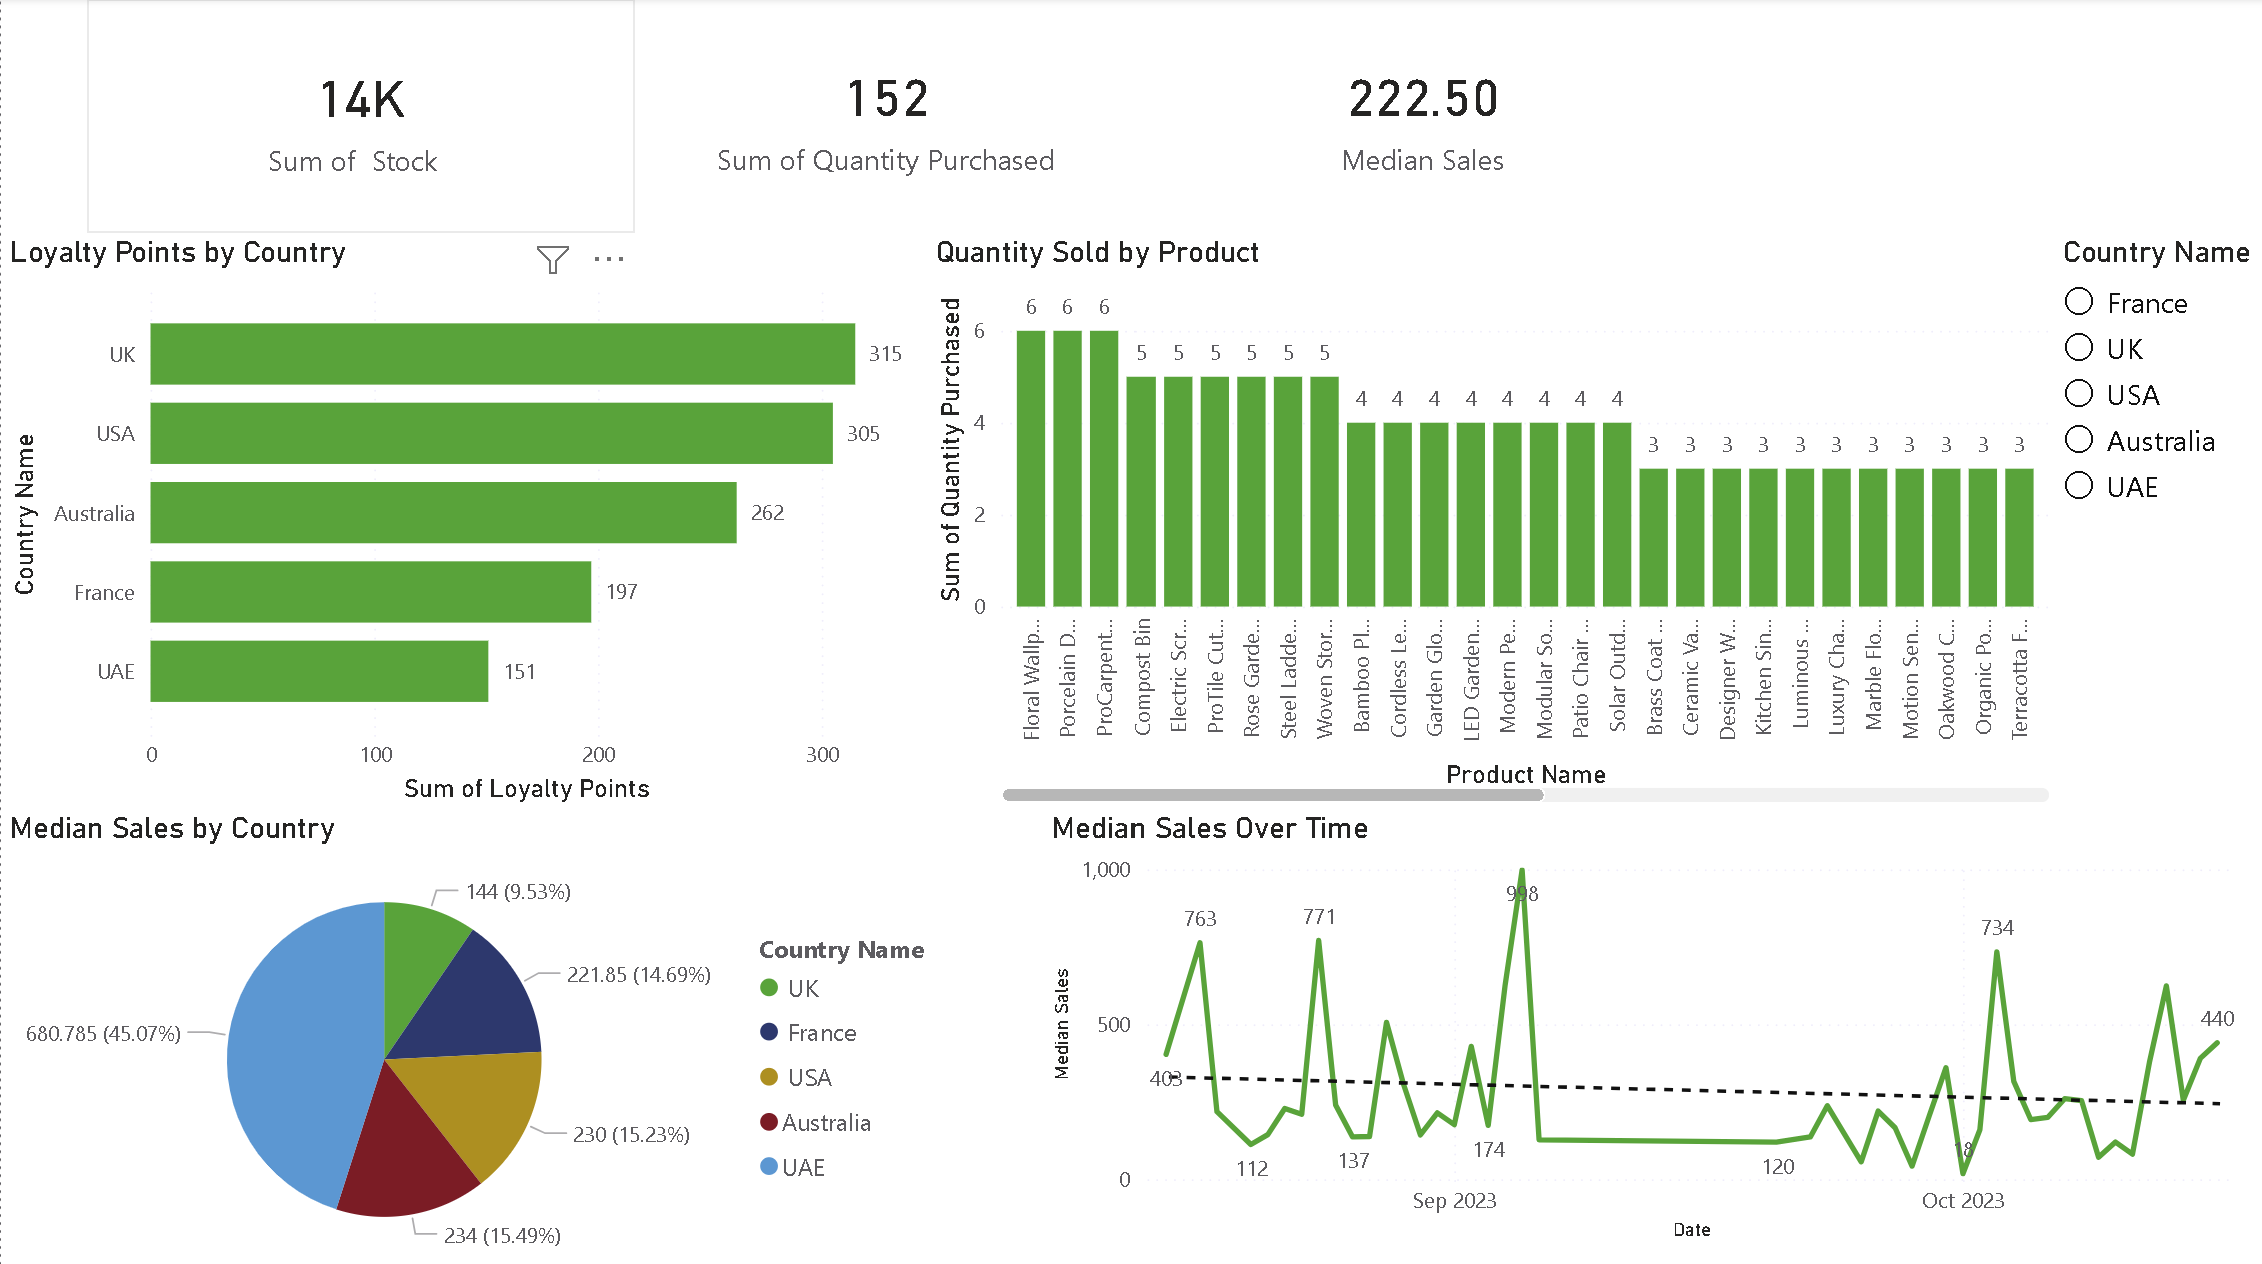

The page's visual inventory and layout, read from the dashboard file:
{"tool":"powerbi","page":{"name":"Sales Overview","canvas":[1280,720],"ordinal":0},"visuals":[{"type":"clusteredBarChart","title":"Loyalty Points by Country","fields":{"Category":["Sales_in_USD.Country Name"],"Y":["Sum(Sales_in_USD. Loyalty Points)"]},"box":[0,134.7,523.8,325.5],"z":0},{"type":"clusteredColumnChart","title":"Quantity Sold by Product","fields":{"Category":["Sales_in_USD.Product Name"],"Y":["Sum(Sales_in_USD.Quantity Purchased)"]},"box":[523.3,134.6,638.6,325.5],"z":1000},{"type":"pieChart","title":"Median Sales by Country","fields":{"Category":["Sales_in_USD.Country Name"],"Y":["Sales_in_USD.Median Sales"]},"box":[0,460.2,540.1,261.9],"z":2000},{"type":"lineChart","title":"Median Sales Over Time","fields":{"Category":["Sales_in_USD.Date"],"Y":["Sales_in_USD.Median Sales"]},"box":[588.9,460.2,691.1,247.1],"z":3000},{"type":"card","fields":{"Values":["Sum(Sales_in_USD. Stock  )"]},"box":[48.8,1.5,309.3,131.7],"z":4000},{"type":"card","fields":{"Values":["Sum(Sales_in_USD.Quantity Purchased)"]},"box":[358.1,0,284.1,133.2],"z":5000},{"type":"card","fields":{"Values":["Sales_in_USD.Median Sales"]},"box":[658.5,0,288.6,133.2],"z":6000},{"type":"listSlicer","fields":{"Values":["Sales_in_USD.Country Name"]},"box":[1160.1,134.7,119.9,242.7],"z":7000}]}

Visuals, with their boxes in screenshot pixels (x1, y1, x2, y2), scaled from the page's 1280x720 canvas onto the 2262x1264 screenshot:
"Loyalty Points by Country" clusteredBarChart: (0, 236, 926, 808)
"Quantity Sold by Product" clusteredColumnChart: (925, 236, 2053, 808)
"Median Sales by Country" pieChart: (0, 808, 954, 1263)
"Median Sales Over Time" lineChart: (1041, 808, 2261, 1242)
card - Sum(Sales_in_USD. Stock  ): (86, 3, 633, 234)
card - Sum(Sales_in_USD.Quantity Purchased): (633, 0, 1135, 234)
card - Sales_in_USD.Median Sales: (1164, 0, 1674, 234)
listSlicer - Sales_in_USD.Country Name: (2050, 236, 2261, 663)
